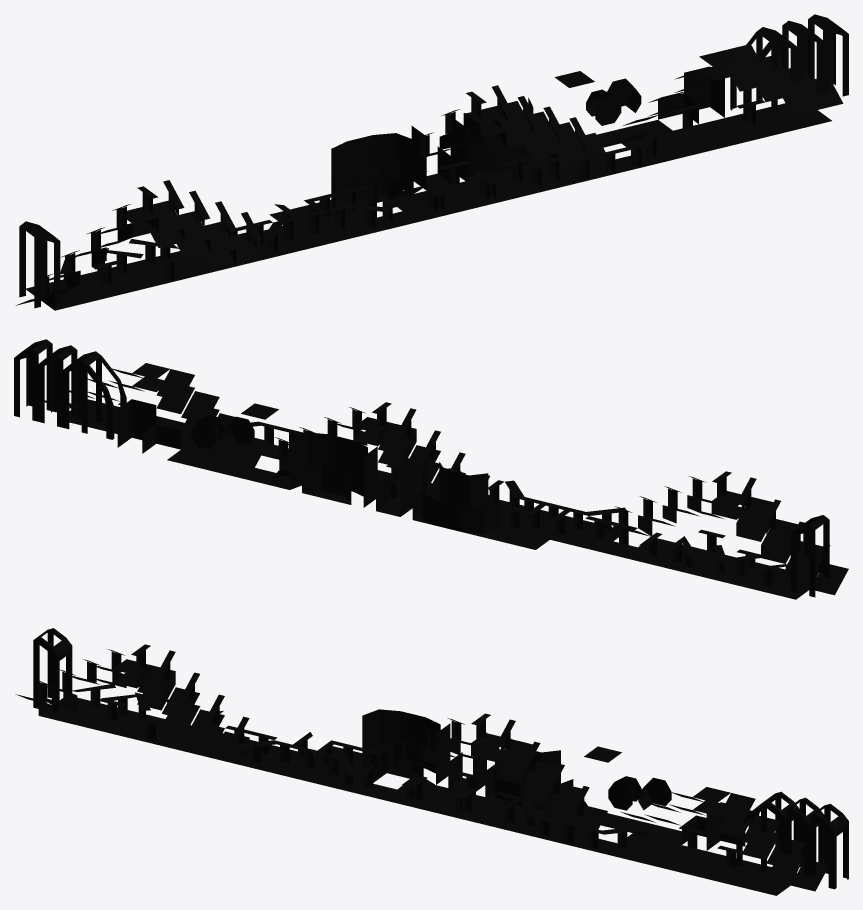
The model's file is catalog.obj.
3 views of the same model, one above another, from view 1: azimuth 30°, elevation 25°; view 2: azimuth 150°, elevation 25°; view 3: azimuth 330°, elevation 25° (orthographic). The views are drawn at different scales.
Visible parts, largest first — view 1: cell_31_1, cell_26_0, cell_12_1, cell_16_2, cell_0_2, cell_3_1, cell_25_0, cell_17_2, cell_24_0, cell_11_1, cell_1_2, cell_27_0 (+41 smaller); view 2: cell_11_2, cell_2_2, cell_1_2, cell_18_2, cell_31_1, cell_12_2, cell_0_2, cell_28_0, cell_14_1, cell_29_0, cell_17_2, cell_5_1 (+33 smaller); view 3: cell_0_2, cell_26_0, cell_31_1, cell_18_2, cell_12_1, cell_25_0, cell_3_1, cell_1_2, cell_11_1, cell_24_0, cell_2_1, cell_10_1 (+38 smaller).
Part boxes in pixels (x1,y1,x2,y2): cell_31_1: [19, 221, 60, 308]; cell_26_0: [144, 180, 184, 285]; cell_12_1: [492, 85, 531, 185]; cell_16_2: [373, 133, 413, 198]; cell_0_2: [808, 14, 848, 96]; cell_3_1: [725, 44, 765, 128]; cell_25_0: [174, 190, 210, 278]; cell_17_2: [347, 135, 384, 204]; cell_24_0: [195, 201, 236, 272]; cell_11_1: [517, 96, 557, 178]; cell_1_2: [782, 20, 822, 94]; cell_27_0: [118, 186, 158, 291]; cell_11_2: [289, 432, 328, 495]; cell_2_2: [63, 351, 101, 433]; cell_1_2: [38, 345, 77, 427]; cell_18_2: [462, 473, 500, 537]; cell_31_1: [790, 515, 829, 597]; cell_12_2: [315, 434, 353, 501]; cell_0_2: [14, 339, 52, 421]; cell_28_0: [736, 477, 773, 577]; cell_14_1: [378, 408, 416, 502]; cell_29_0: [761, 499, 797, 583]; cell_17_2: [437, 469, 468, 531]; cell_5_1: [156, 369, 194, 449]; cell_0_2: [810, 803, 848, 889]; cell_26_0: [137, 650, 175, 745]; cell_31_1: [33, 628, 72, 713]; cell_18_2: [362, 709, 400, 770]; cell_12_1: [495, 719, 532, 819]; cell_25_0: [162, 672, 200, 751]; cell_3_1: [717, 793, 755, 873]; cell_1_2: [785, 797, 824, 875]; cell_11_1: [520, 741, 557, 824]; cell_24_0: [186, 694, 224, 757]; cell_2_1: [742, 815, 779, 879]; cell_10_1: [544, 763, 581, 829].
Size of the model in its own units: 0.5078 by 0.0508 by 0.0508.
Materials: 20 (20 with a texture image).
